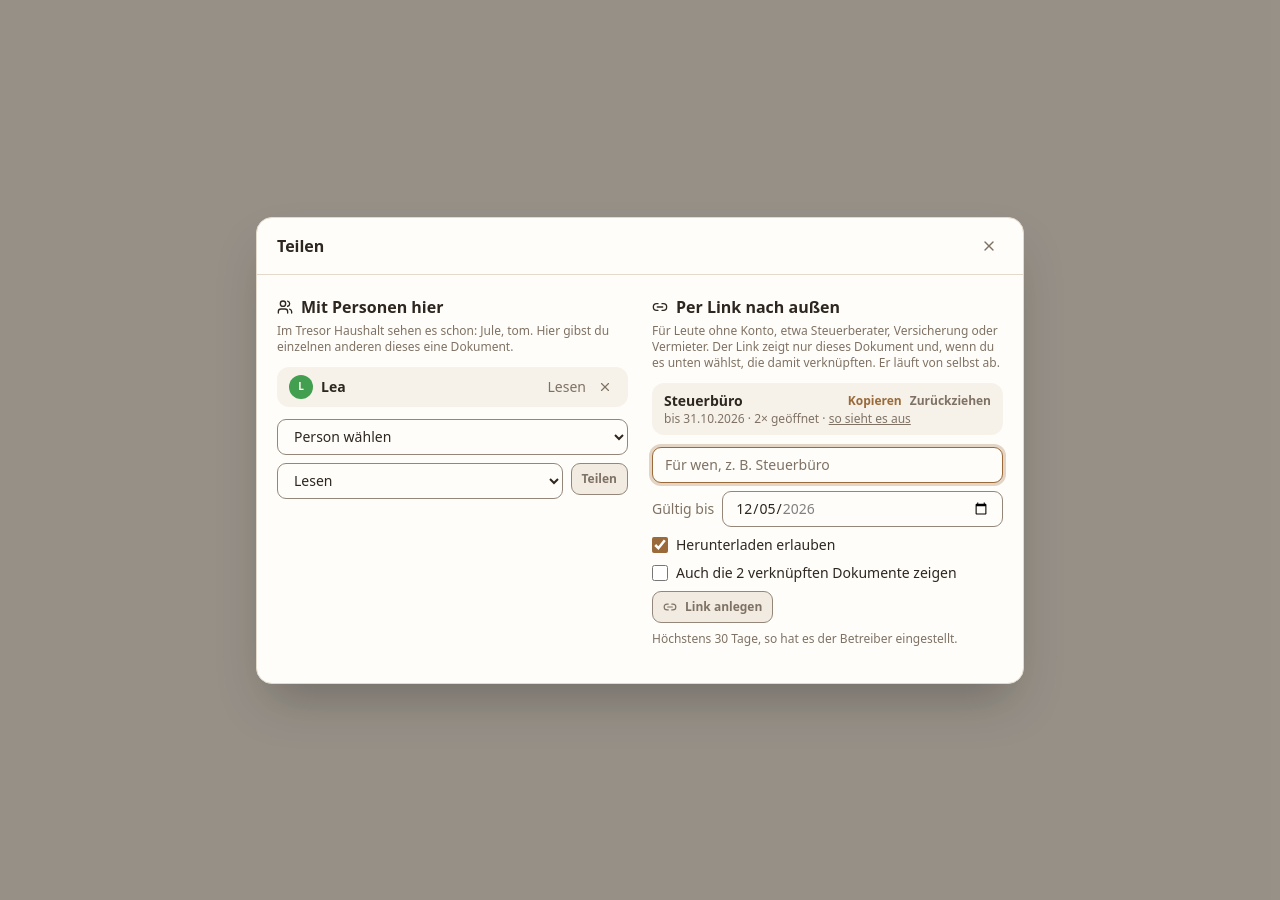
Scenario: a link that shows what goes with the document (N2) › says that a chosen document with a protected original goes out opened, and not while it is left out (P1)
Step 1. Click the checkbox labelled "Auch die 2 verknüpften Dokumente zeigen" → click(660, 572), box [652,564,668,580]
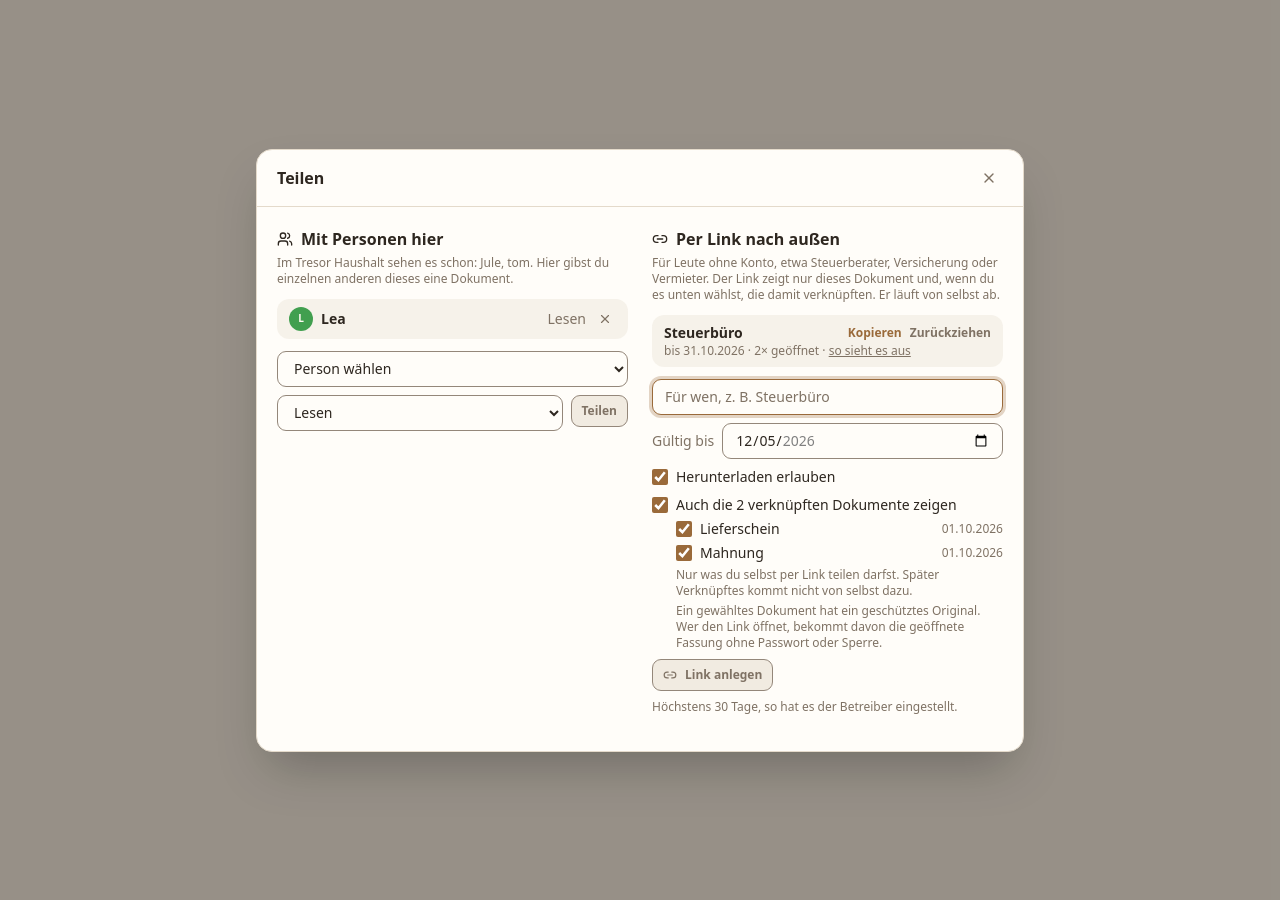
Expected: the text with test id "share-protected-also" shows "Ein gewähltes Dokument hat ein geschütztes Original. Wer den Link öffnet, bekommt davon die geöffnete Fassung ohne Passwort oder Sperre.", [676,602,980,650]
Expected: the checkbox labelled "Mahnung 01.10.2026" is shown
Step 2. Click the checkbox labelled "Mahnung 01.10.2026" → click(684, 552), box [676,544,692,560]
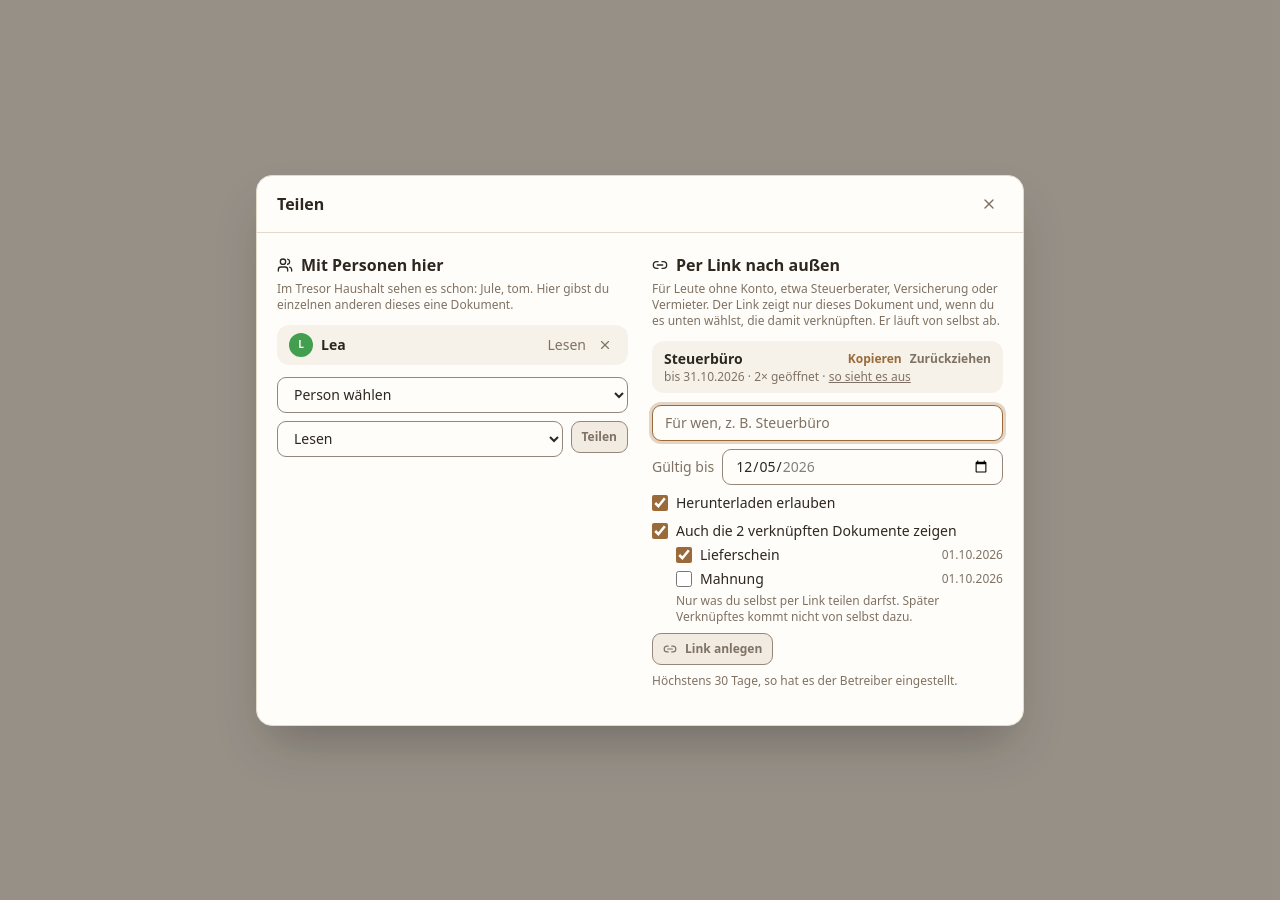
Expected: the checkbox labelled "Mahnung 01.10.2026" is shown
Expected: the text with test id "share-protected-also" is gone
Step 3. Click the checkbox labelled "Mahnung 01.10.2026" → click(684, 578), box [676,570,692,586]
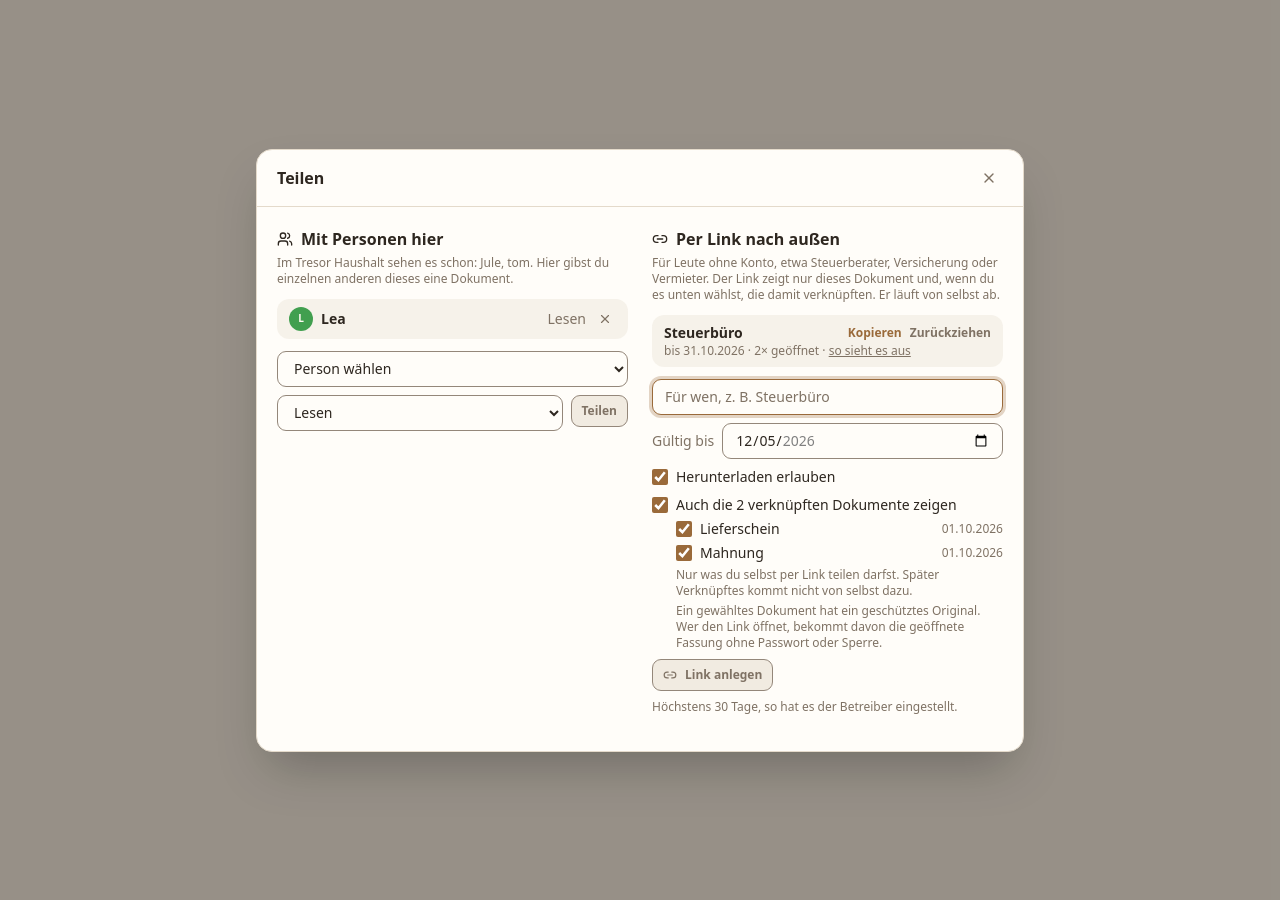
Expected: the text with test id "share-protected-also" is shown, [652,602,1003,650]
